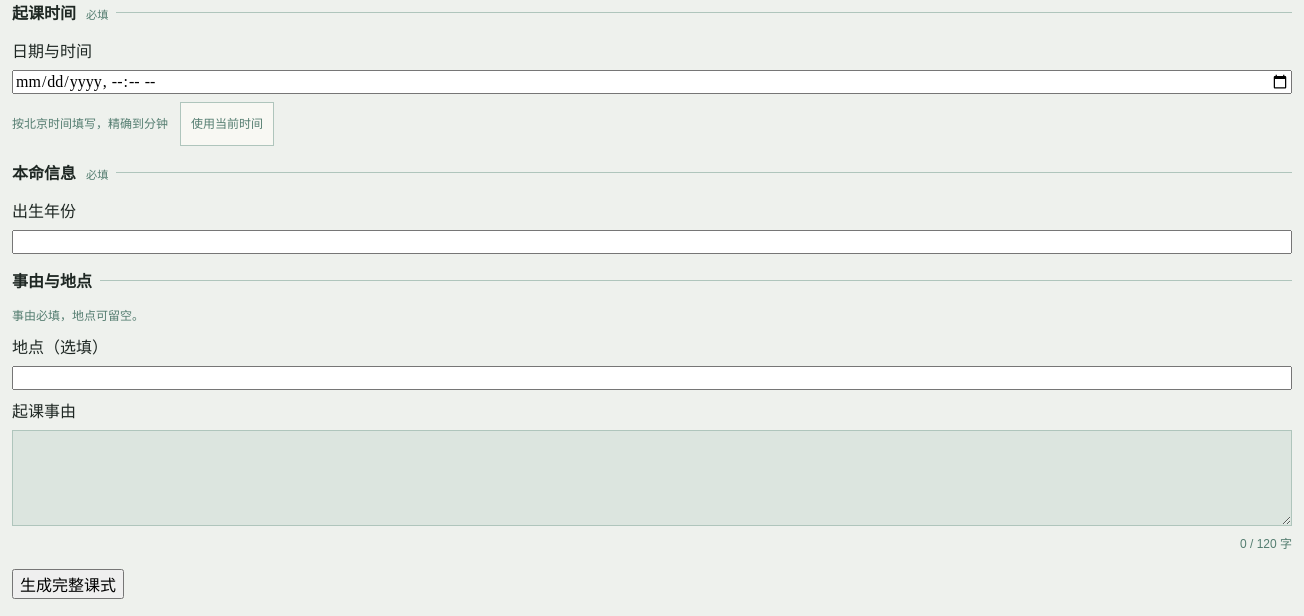
it: fills current Beijing time to the minute across a UTC date boundary
The width and height of the screenshot is (1304, 616).
Click the button "使用当前时间" at (227, 124), box [180,102,274,146]
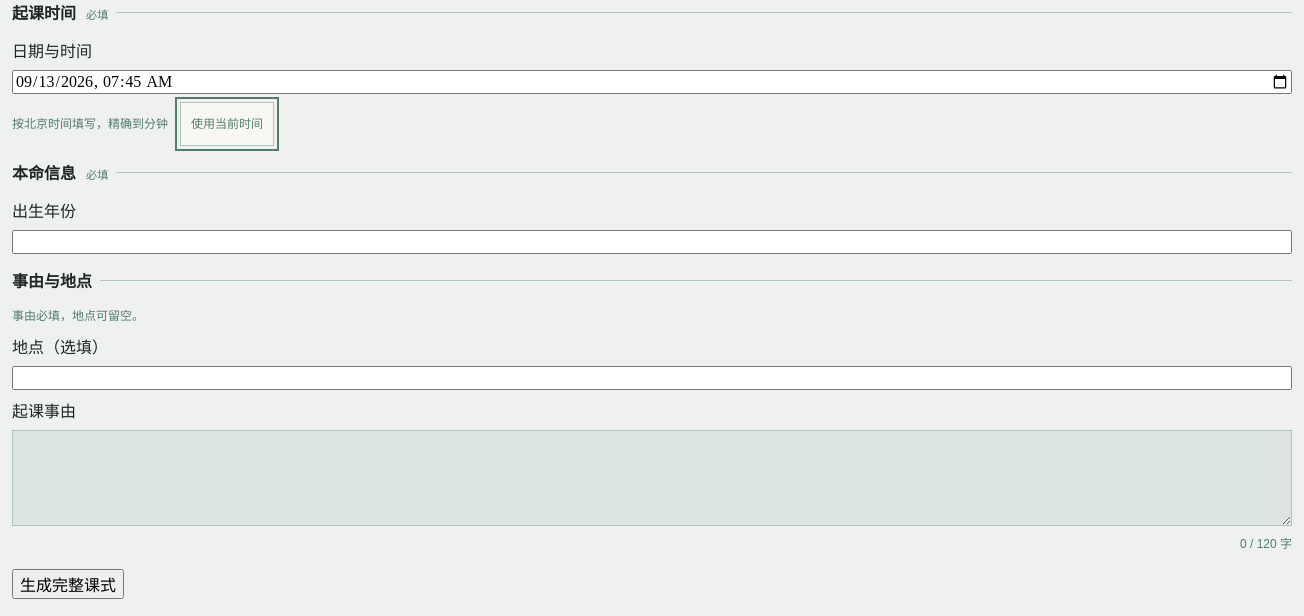
Check: the field labelled "日期与时间" holds "2026-09-13T07:45", box [12,70,1292,94]
